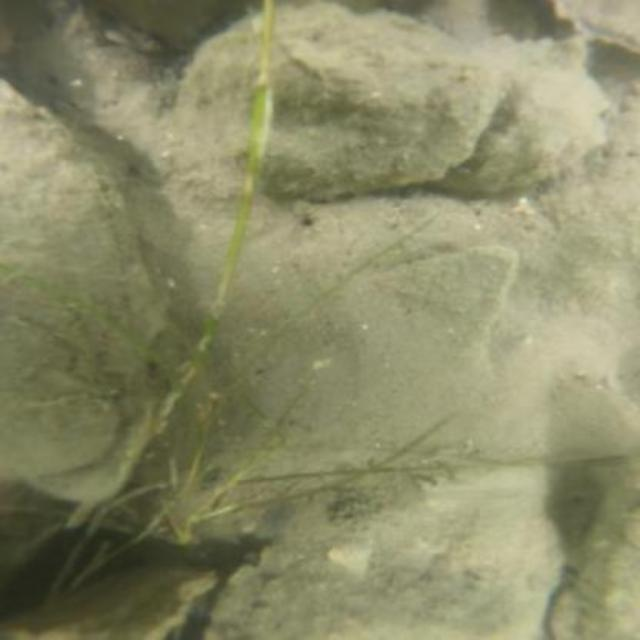Oyster-Closed: (3, 78, 159, 492)
Oyster-Indeterminate: (196, 447, 560, 634), (177, 7, 490, 193), (436, 30, 605, 195), (1, 560, 220, 639), (551, 494, 640, 636)
